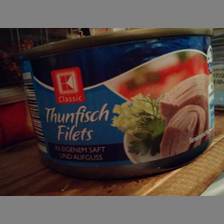fish: (18, 29, 215, 177)
